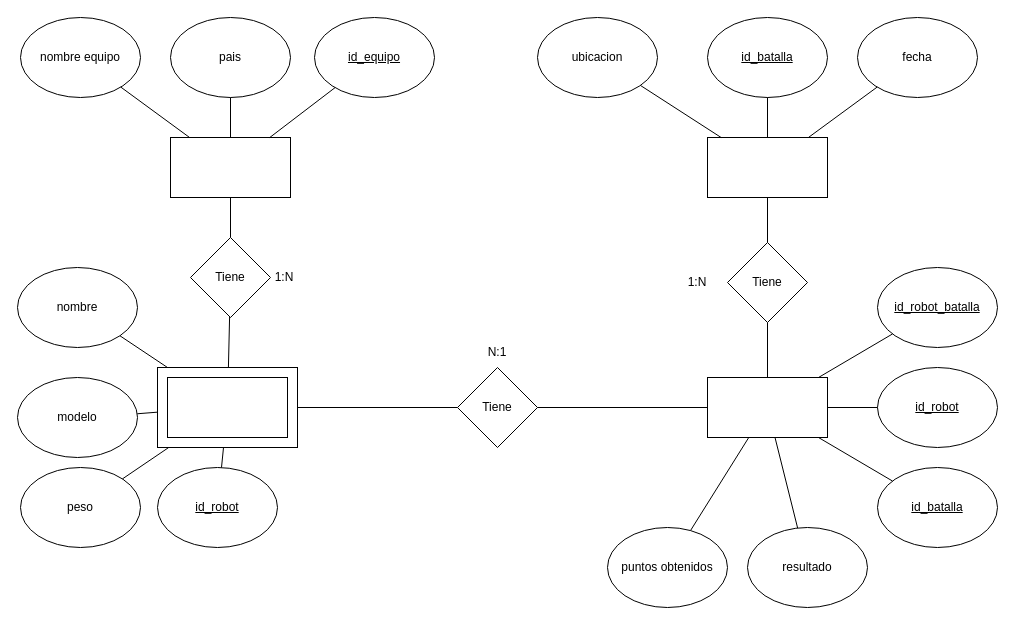
The diagram is 1015 pixels wide and 625 high, and some of its shapes have lost their labels. Here are the shapes that lost their labels. From the top down, the box of each, then its label:
(170, 136, 290, 198): Equipo
(706, 136, 828, 198): Batalla
(166, 376, 288, 438): Robot
(706, 376, 828, 438): Robot_Batalla
